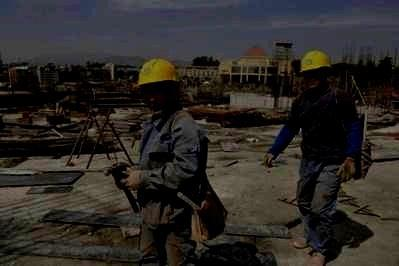helmet: (132, 57, 179, 112), (299, 51, 331, 90)
